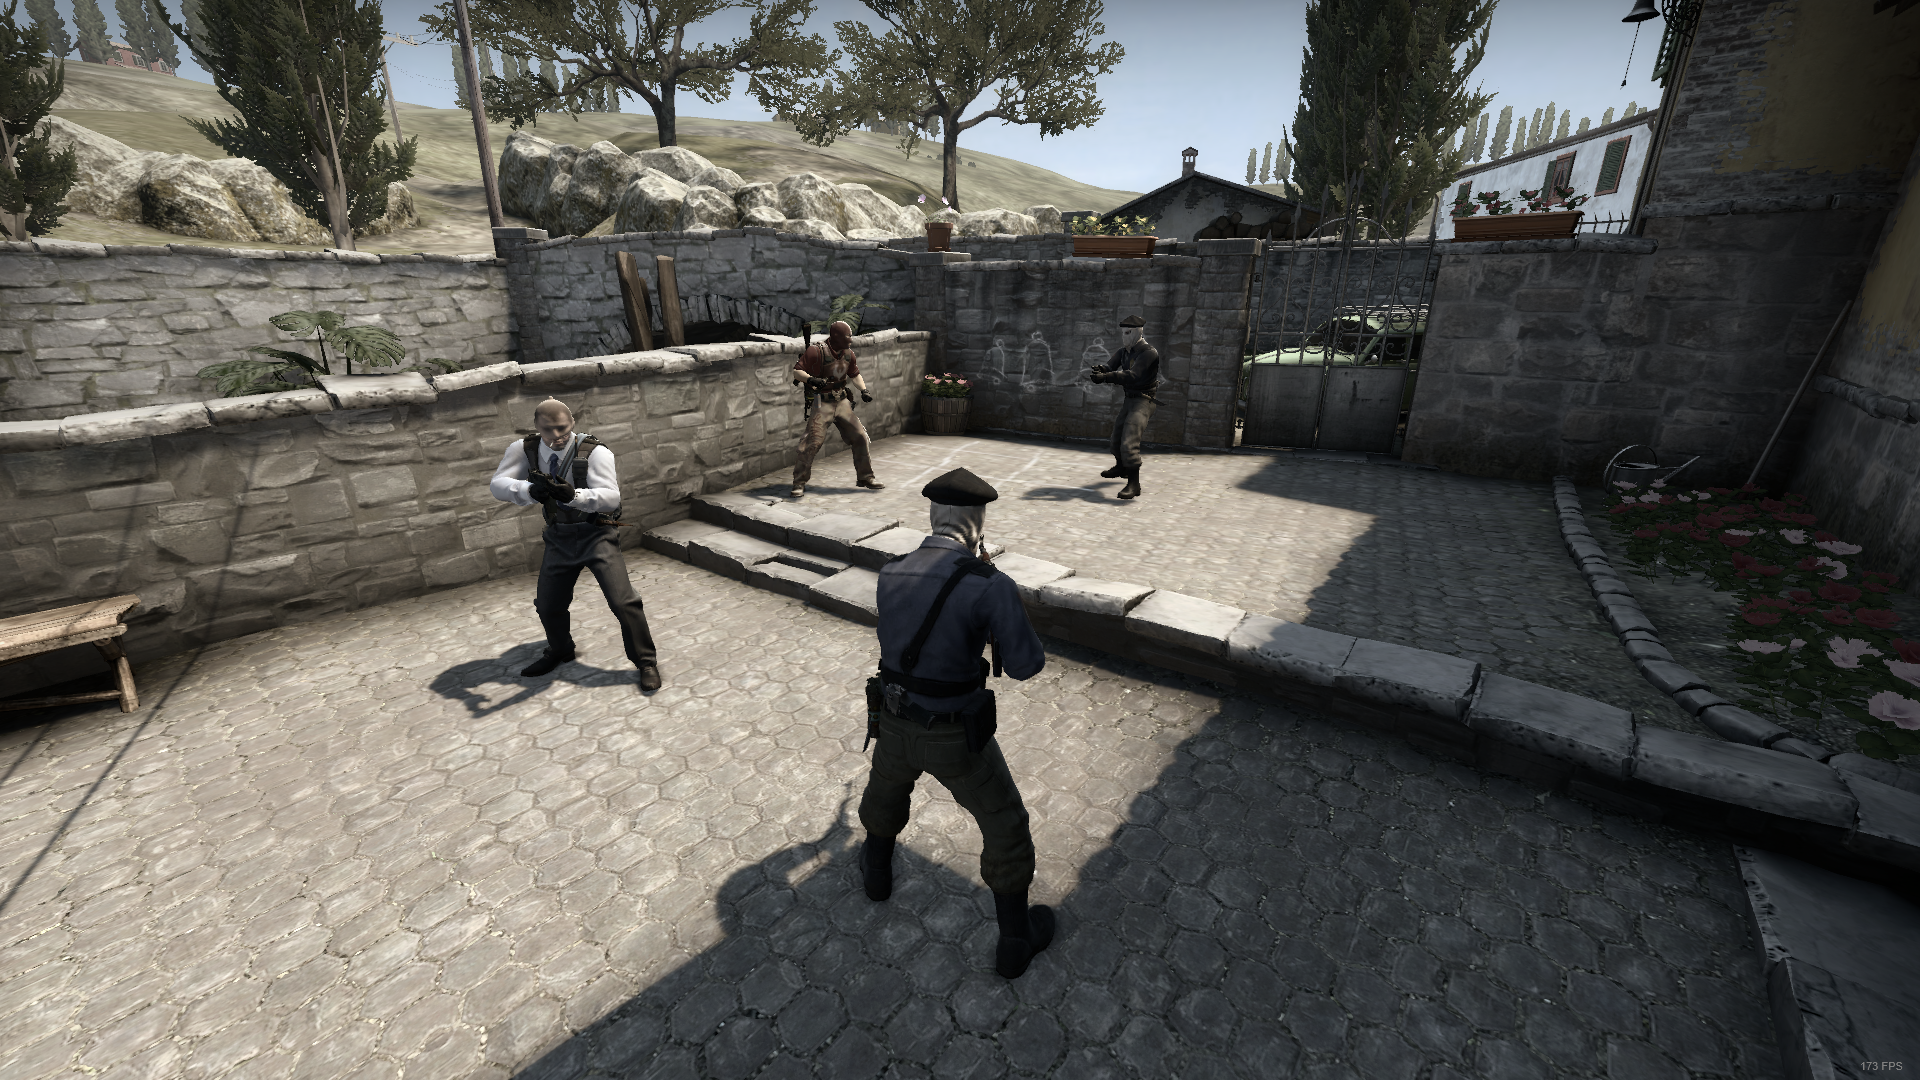t: (851, 464, 1069, 982), (1087, 316, 1164, 508)
